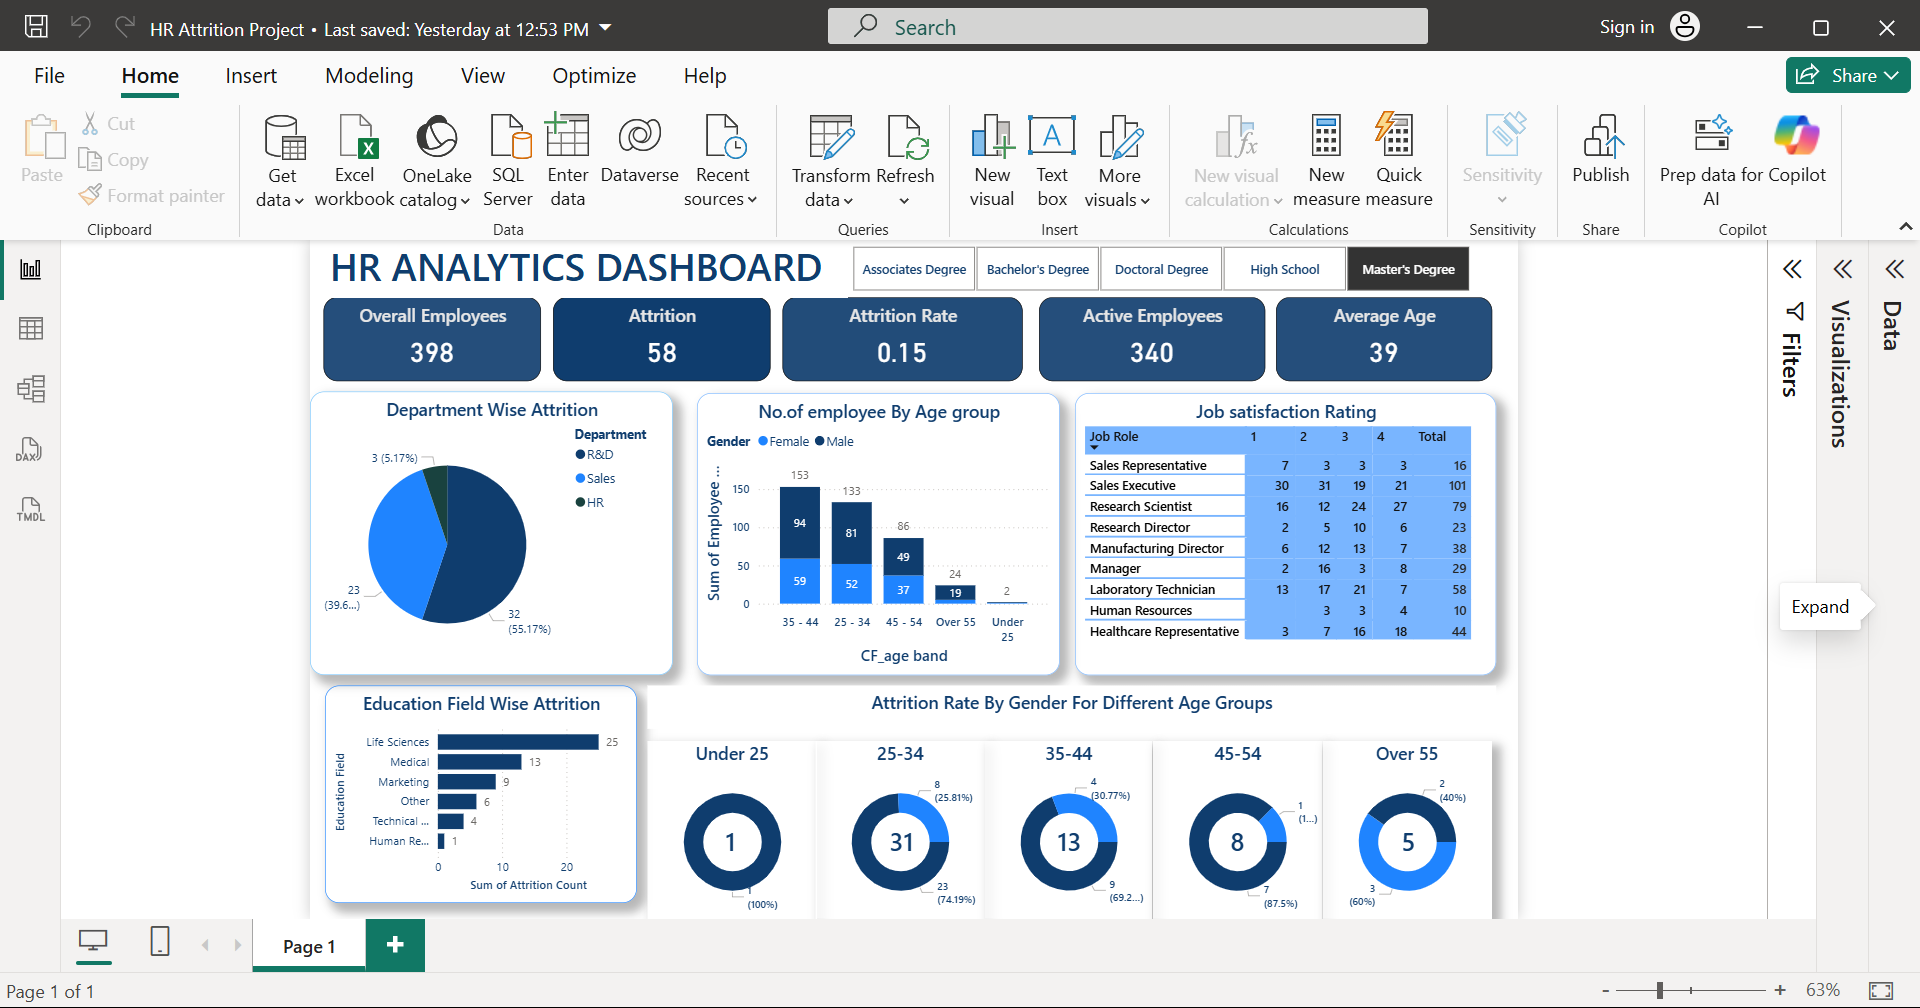

This screenshot's page, from the dashboard's own definition file:
{"tool":"powerbi","page":{"name":"Page 1","canvas":[1280,720],"ordinal":0},"visuals":[{"type":"card","title":"Overall Employees","fields":{"Values":["Sum(Data.Employee Count)"]},"box":[14.3,60.4,230.6,89.1],"z":0},{"type":"card","title":"Attrition","fields":{"Values":["Sum(Data.Attrition Count)"]},"box":[257.7,60.4,230.6,89.1],"z":1000},{"type":"card","title":"Attrition Rate","fields":{"Values":["Data.Attrition Rate"]},"box":[501,60.4,254.5,89.1],"z":2000},{"type":"card","title":"Active Employees","fields":{"Values":["Data.Active Employees"]},"box":[773,60.4,240.2,89.1],"z":3000},{"type":"card","title":"Average Age","fields":{"Values":["Avg(Data.Age)"]},"box":[1024.4,60.4,229,89.1],"z":4000},{"type":"pieChart","title":"Department Wise Attrition","fields":{"Category":["Data.Department"],"Y":["Sum(Data.Attrition Count)"]},"box":[0,160.7,384.9,300.6],"z":5000},{"type":"columnChart","title":"No.of employee By Age group","fields":{"Category":["Data.CF_age band"],"Y":["Sum(Data.Employee Count)"],"Series":["Data.Gender"]},"box":[410.4,162.2,384.9,299],"z":6000},{"type":"pivotTable","title":"Job satisfaction Rating","fields":{"Rows":["Data.Job Role"],"Columns":["Data.Job Satisfaction"],"Values":["Sum(Data.Employee Count)"]},"box":[811.2,162.2,447,299],"z":7000},{"type":"barChart","title":"Education Field Wise Attrition","fields":{"Category":["Data.Education Field"],"Y":["Sum(Data.Attrition Count)"]},"box":[15.1,472.4,330.7,230.6],"z":8000},{"type":"donutChart","title":"Under 25","fields":{"Category":["Data.Gender"],"Y":["Sum(Data.Attrition Count)"],"Series":["Data.CF_age band"]},"box":[357.2,531,179.5,189],"z":9000},{"type":"textbox","box":[357.9,472.4,900.3,46.1],"z":10000},{"type":"donutChart","title":"25-34","fields":{"Category":["Data.Gender"],"Y":["Sum(Data.Attrition Count)"],"Series":["Data.CF_age band"]},"box":[536.7,531,179.5,189],"z":11000},{"type":"donutChart","title":"35-44","fields":{"Category":["Data.Gender"],"Y":["Sum(Data.Attrition Count)"],"Series":["Data.CF_age band"]},"box":[716.2,531,177.6,189],"z":12000},{"type":"donutChart","title":"45-54","fields":{"Category":["Data.Gender"],"Y":["Sum(Data.Attrition Count)"],"Series":["Data.CF_age band"]},"box":[893.9,531,179.5,189],"z":13000},{"type":"donutChart","title":"Over 55","fields":{"Category":["Data.Gender"],"Y":["Sum(Data.Attrition Count)"],"Series":["Data.CF_age band"]},"box":[1073.4,531,179.5,189],"z":14000},{"type":"card","fields":{"Values":["Sum(Data.Attrition Count)"]},"box":[404.4,604.7,83.2,68],"z":15000},{"type":"card","fields":{"Values":["Sum(Data.Attrition Count)"]},"box":[585.8,604.7,83.2,68],"z":16000},{"type":"card","fields":{"Values":["Sum(Data.Attrition Count)"]},"box":[763.5,604.7,83.2,68],"z":17000},{"type":"card","fields":{"Values":["Sum(Data.Attrition Count)"]},"box":[941.1,604.7,83.2,68],"z":18000},{"type":"card","fields":{"Values":["Sum(Data.Attrition Count)"]},"box":[1122.5,604.7,83.2,68],"z":19000},{"type":"textbox","title":"HR ANALYTICS DASHBOARD","box":[15.1,0,553.7,60.5],"z":20000},{"type":"slicer","fields":{"Values":["Data.Education"]},"box":[549.9,0,703,60.5],"z":21000}]}

Visuals, with their boxes on the page's 1280x720 design canvas (x1, y1, x2, y2). These are canvas units, not pixel positions in the 1920x1008 screenshot, which may show the page scaled, cropped or inside an application window:
"Overall Employees" card: 14:60:245:150
"Attrition" card: 258:60:488:150
"Attrition Rate" card: 501:60:756:150
"Active Employees" card: 773:60:1013:150
"Average Age" card: 1024:60:1253:150
"Department Wise Attrition" pieChart: 0:161:385:461
"No.of employee By Age group" columnChart: 410:162:795:461
"Job satisfaction Rating" pivotTable: 811:162:1258:461
"Education Field Wise Attrition" barChart: 15:472:346:703
"Under 25" donutChart: 357:531:537:720
textbox: 358:472:1258:518
"25-34" donutChart: 537:531:716:720
"35-44" donutChart: 716:531:894:720
"45-54" donutChart: 894:531:1073:720
"Over 55" donutChart: 1073:531:1253:720
card - Sum(Data.Attrition Count): 404:605:488:673
card - Sum(Data.Attrition Count): 586:605:669:673
card - Sum(Data.Attrition Count): 764:605:847:673
card - Sum(Data.Attrition Count): 941:605:1024:673
card - Sum(Data.Attrition Count): 1122:605:1206:673
"HR ANALYTICS DASHBOARD" textbox: 15:0:569:60
slicer - Data.Education: 550:0:1253:60
